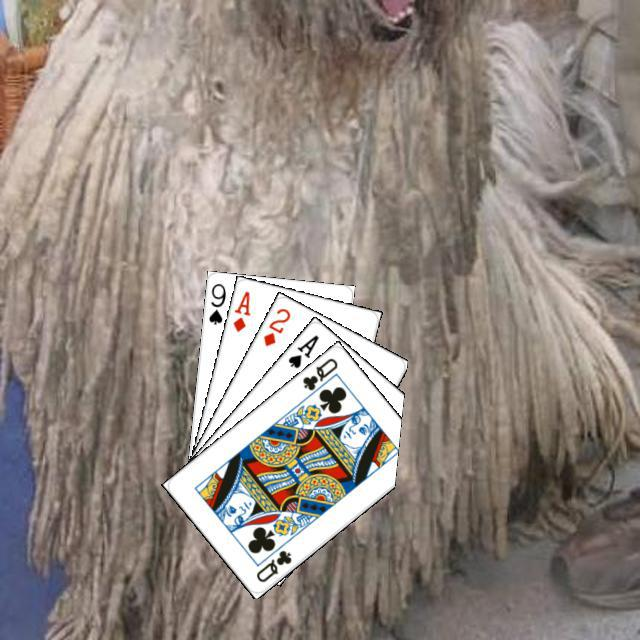2d: (258, 303, 292, 348)
9s: (204, 278, 228, 326)
Ad: (228, 286, 252, 334)
As: (283, 330, 321, 370)
Qc: (297, 353, 340, 400), (251, 545, 293, 584)
